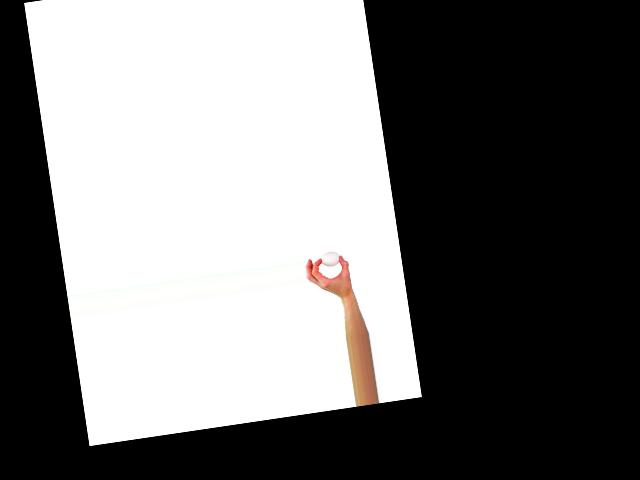egg: (320, 250, 340, 268)
